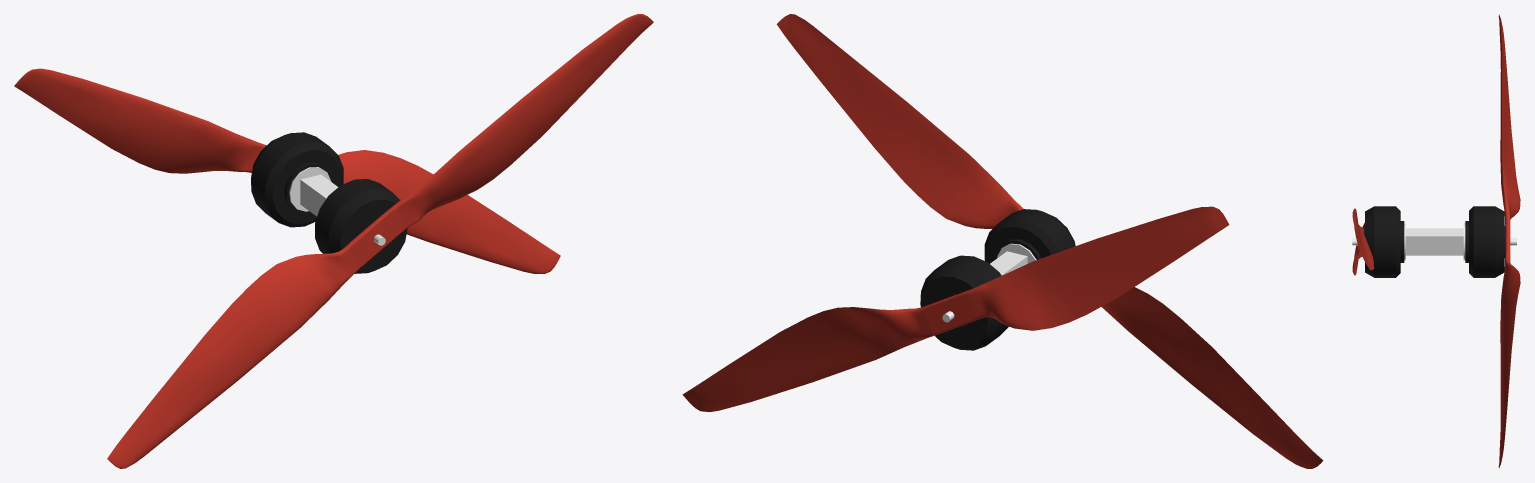
File: Motors_Aft_L.obj
3 renders of one model, left to right at view 1: azimuth 30°, elevation 25°; view 2: azimuth 150°, elevation 25°; view 3: azimuth 270°, elevation 25°, orthographic. The views are drawn at different scales.
Parts seen in each view (by area): view 1: Motors_Aft_L; view 2: Motors_Aft_L; view 3: Motors_Aft_L.
Boxes of the visible parts, x1=… form: Motors_Aft_L: x1=14, y1=14, x2=653, y2=468; Motors_Aft_L: x1=682, y1=14, x2=1323, y2=468; Motors_Aft_L: x1=1352, y1=14, x2=1520, y2=468.
Bounding box in the file's own units: 1055 × 609 × 359.
